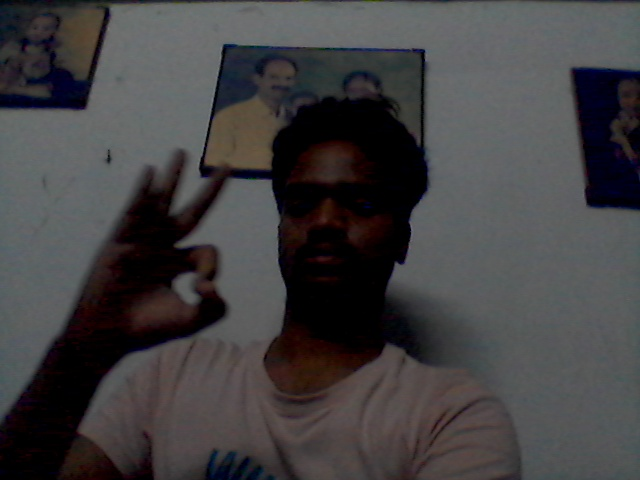Not Ok: (78, 144, 249, 344)
